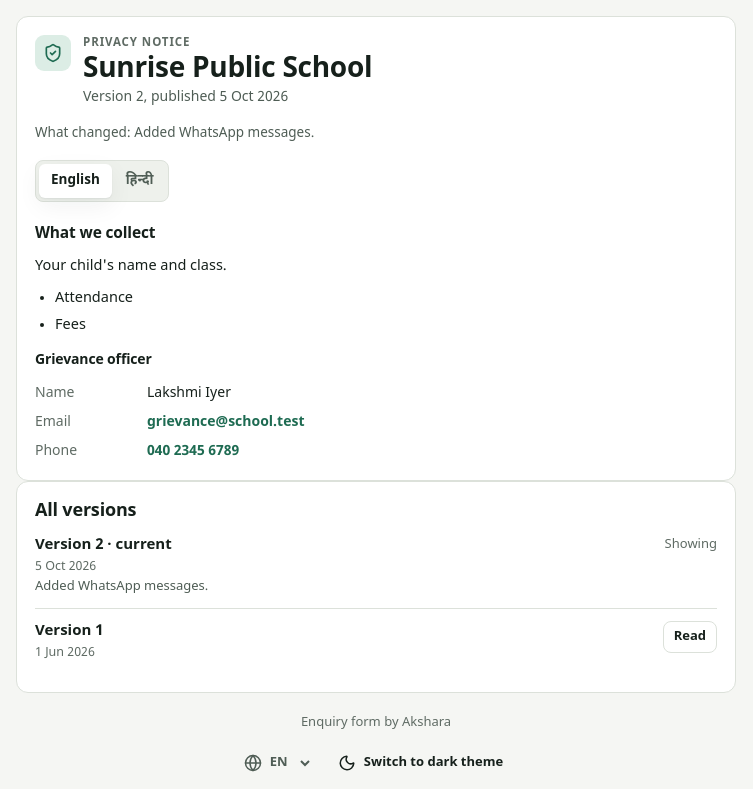
Test: PublicNoticeView › reads an older version and goes back to the current one
Click the button "Read" at [690, 637], box [663,621,717,653]
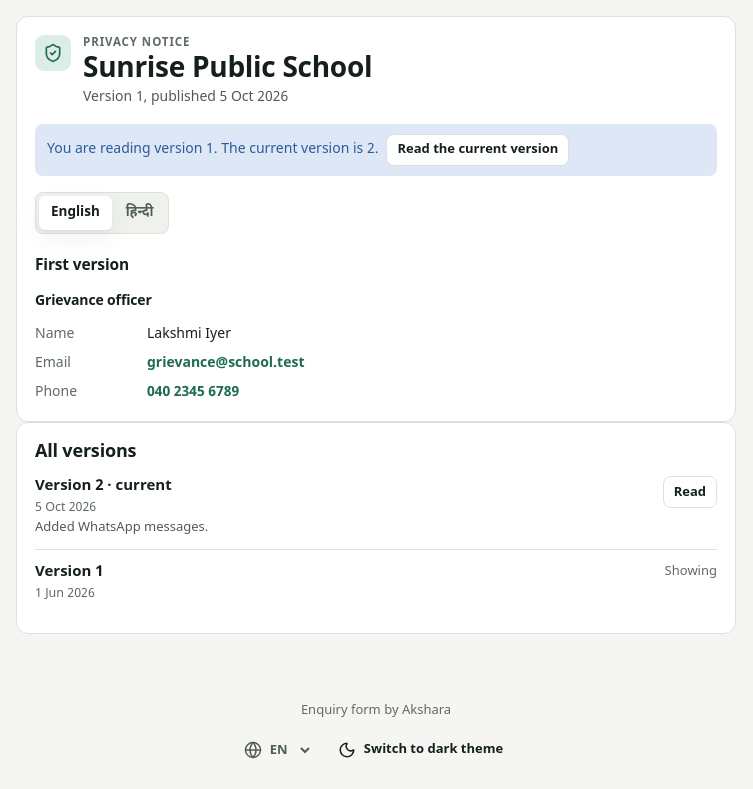
Expected: the heading "First version" is shown, [35,256,129,276]
Expected: the text "You are reading version 1. The current version is 2." is shown, [47,140,378,159]
Click the button "Read the current version" at [478, 150], box [386,134,569,166]
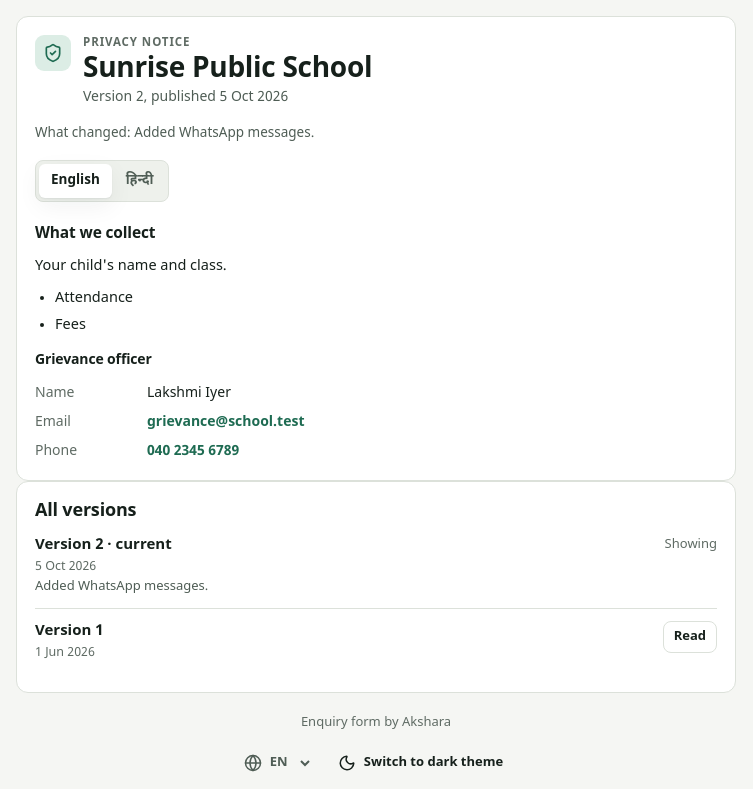
Expected: the heading "What we collect" is shown, [35,224,155,244]
